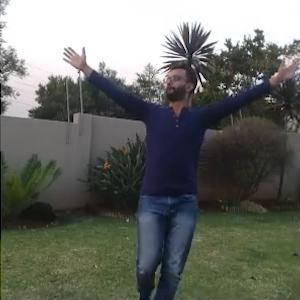takeoff: (68, 53, 299, 282)
